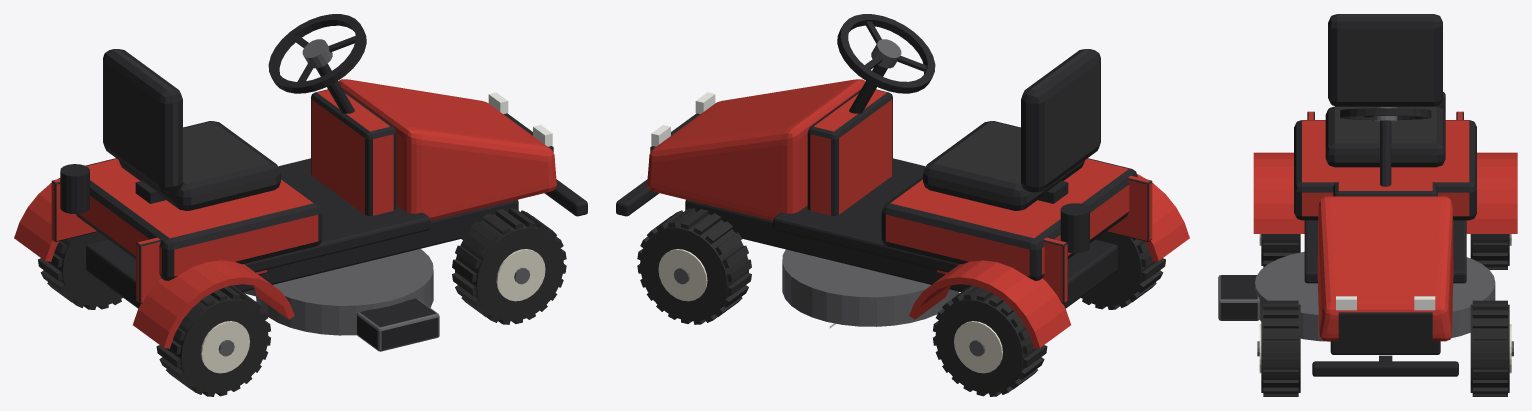
The model's file is cortador-grama.glb.
3 views of the same model, side by side, from view 1: azimuth 30°, elevation 25°; view 2: azimuth 150°, elevation 25°; view 3: azimuth 270°, elevation 25° (orthographic). The views are drawn at different scales.
Visible parts, largest first — view 1: cort_corpo, cort_capo, cort_plataforma, roda_fr, roda_rr, roda_rl, cort_parachoque; view 2: cort_corpo, cort_capo, roda_fl, roda_rl, cort_plataforma, roda_rr, cort_parachoque; view 3: cort_corpo, cort_capo, cort_plataforma, roda_fr, roda_fl, cort_parachoque, roda_rl, roda_rr.
Part boxes in pixels (box(x1,y1,x2,y2)): cort_corpo: box(14, 14, 518, 348); cort_capo: box(338, 79, 556, 220); cort_plataforma: box(243, 249, 439, 351); roda_fr: box(452, 208, 566, 324); roda_rr: box(156, 285, 270, 396); roda_rl: box(38, 232, 122, 309); cort_parachoque: box(544, 179, 587, 216); cort_corpo: box(685, 14, 1189, 348); cort_capo: box(647, 79, 865, 220); roda_fl: box(637, 208, 751, 324); roda_rl: box(933, 285, 1047, 396); cort_plataforma: box(782, 249, 959, 328); roda_rr: box(1081, 232, 1165, 309); cort_parachoque: box(616, 179, 659, 216); cort_corpo: box(1253, 14, 1517, 354); cort_capo: box(1317, 196, 1453, 342); cort_plataforma: box(1218, 251, 1495, 341); roda_fr: box(1257, 300, 1300, 396); roda_fl: box(1470, 300, 1513, 396); cort_parachoque: box(1312, 355, 1458, 376); roda_rl: box(1470, 234, 1511, 269); roda_rr: box(1259, 234, 1300, 267).
Bounding box in the file's own units: 1.79 × 1.03 × 1.14.
